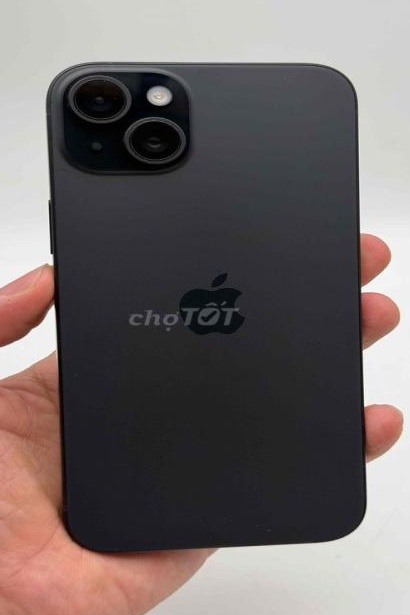scratch: (126, 118, 186, 164)
